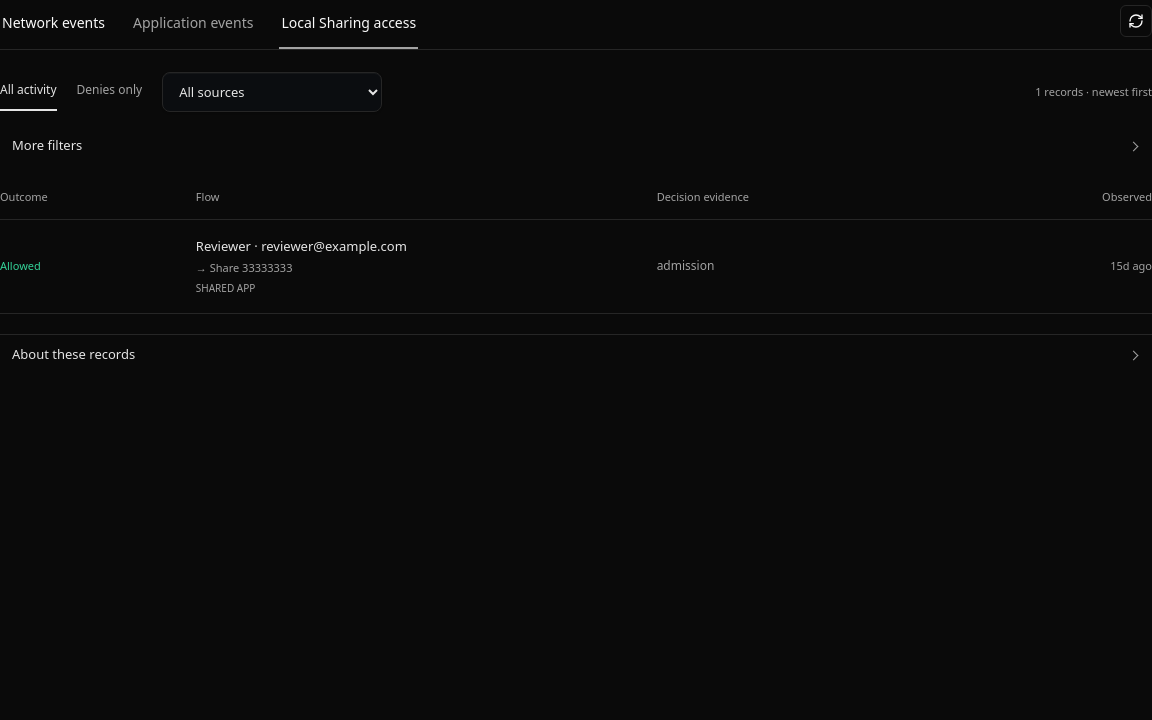
Test: Unified Beam access evidence › withholds gateway flow claims and secret fields from Beam details while preserving durable evidence
The image size is (1152, 720).
Step 1. Click the button with aria-label "View ALLOW event details" → (20, 267), box [0, 258, 41, 275]
(page scrolled)
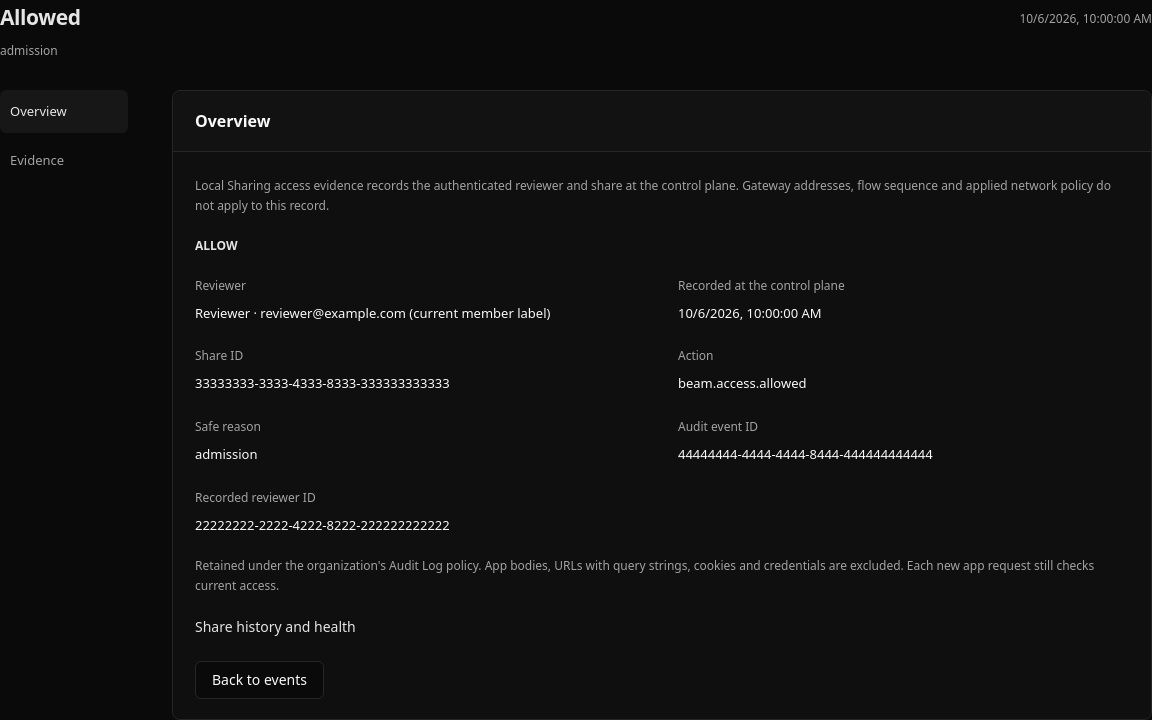
Now the text "Gateway addresses, flow sequence" is shown, box [195, 176, 1111, 214]
Now the text "33333333-3333-4333-8333-333333333333" is shown, box [195, 374, 450, 392]
